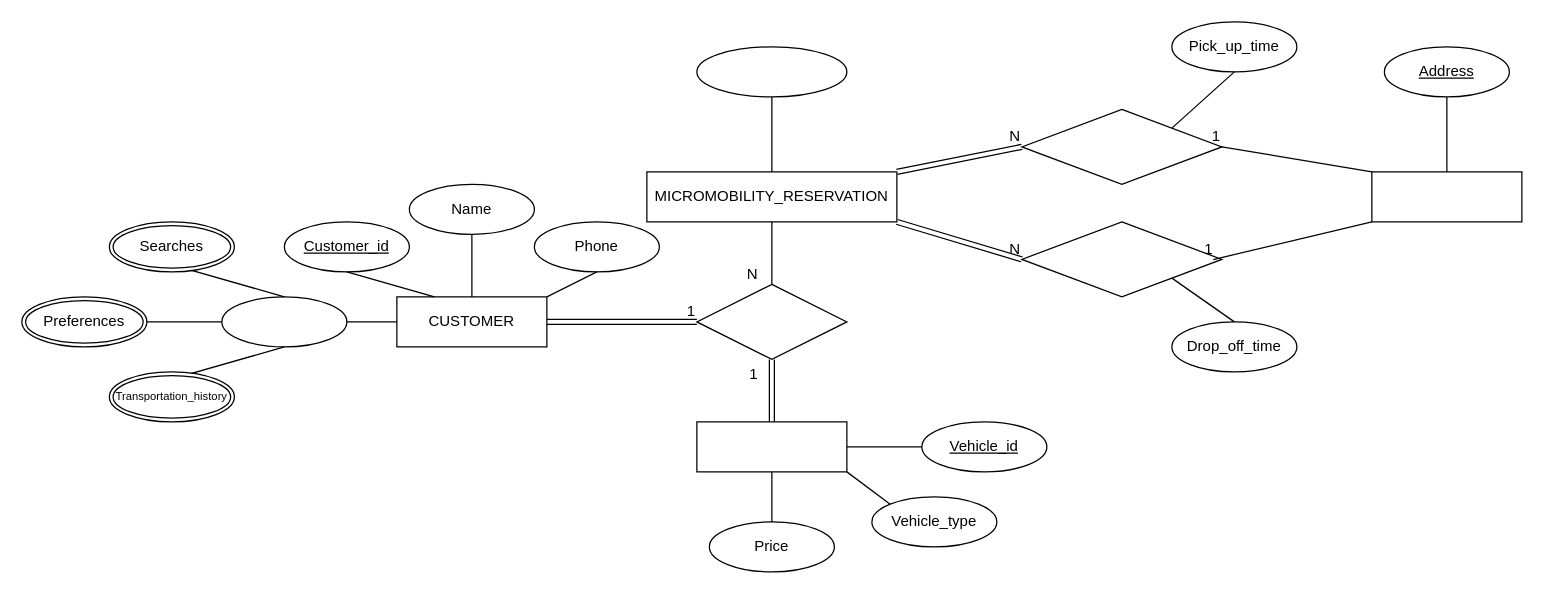
This 1544x594 diagram has some shape labels left out. Each missing label, with the centre of its shape:
"Data" belongs at point 284,321.
"DROP_OFF_LOCATION" belongs at point 1121,259.
"LOCATION" belongs at point 1446,196.
"PICK_UP_LOCATION" belongs at point 1121,146.
"Reservation_code" belongs at point 771,71.
"RESERVES" belongs at point 771,321.
"VEHICLE" belongs at point 771,446.
